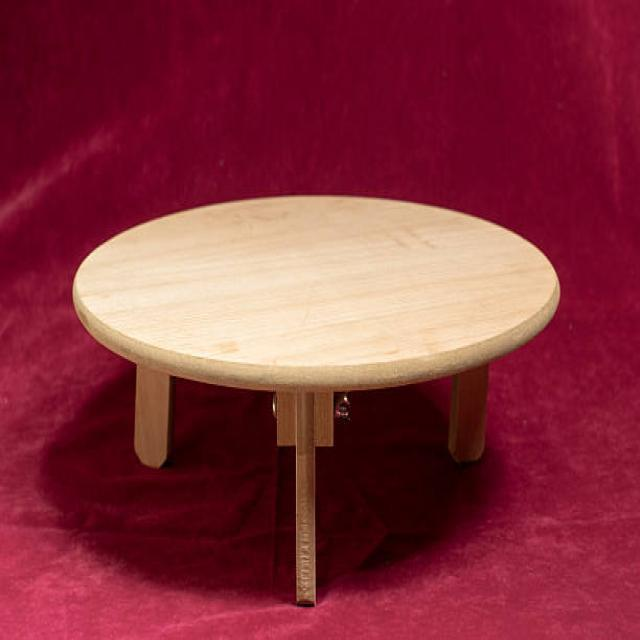table: (71, 192, 561, 607)
